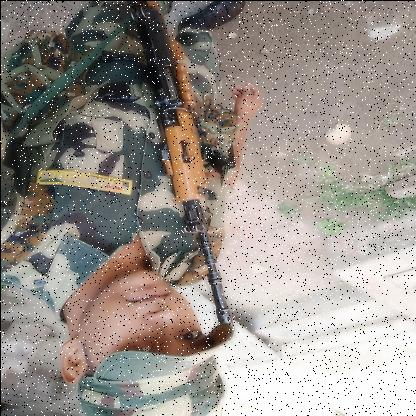rifle: (125, 0, 236, 333)
